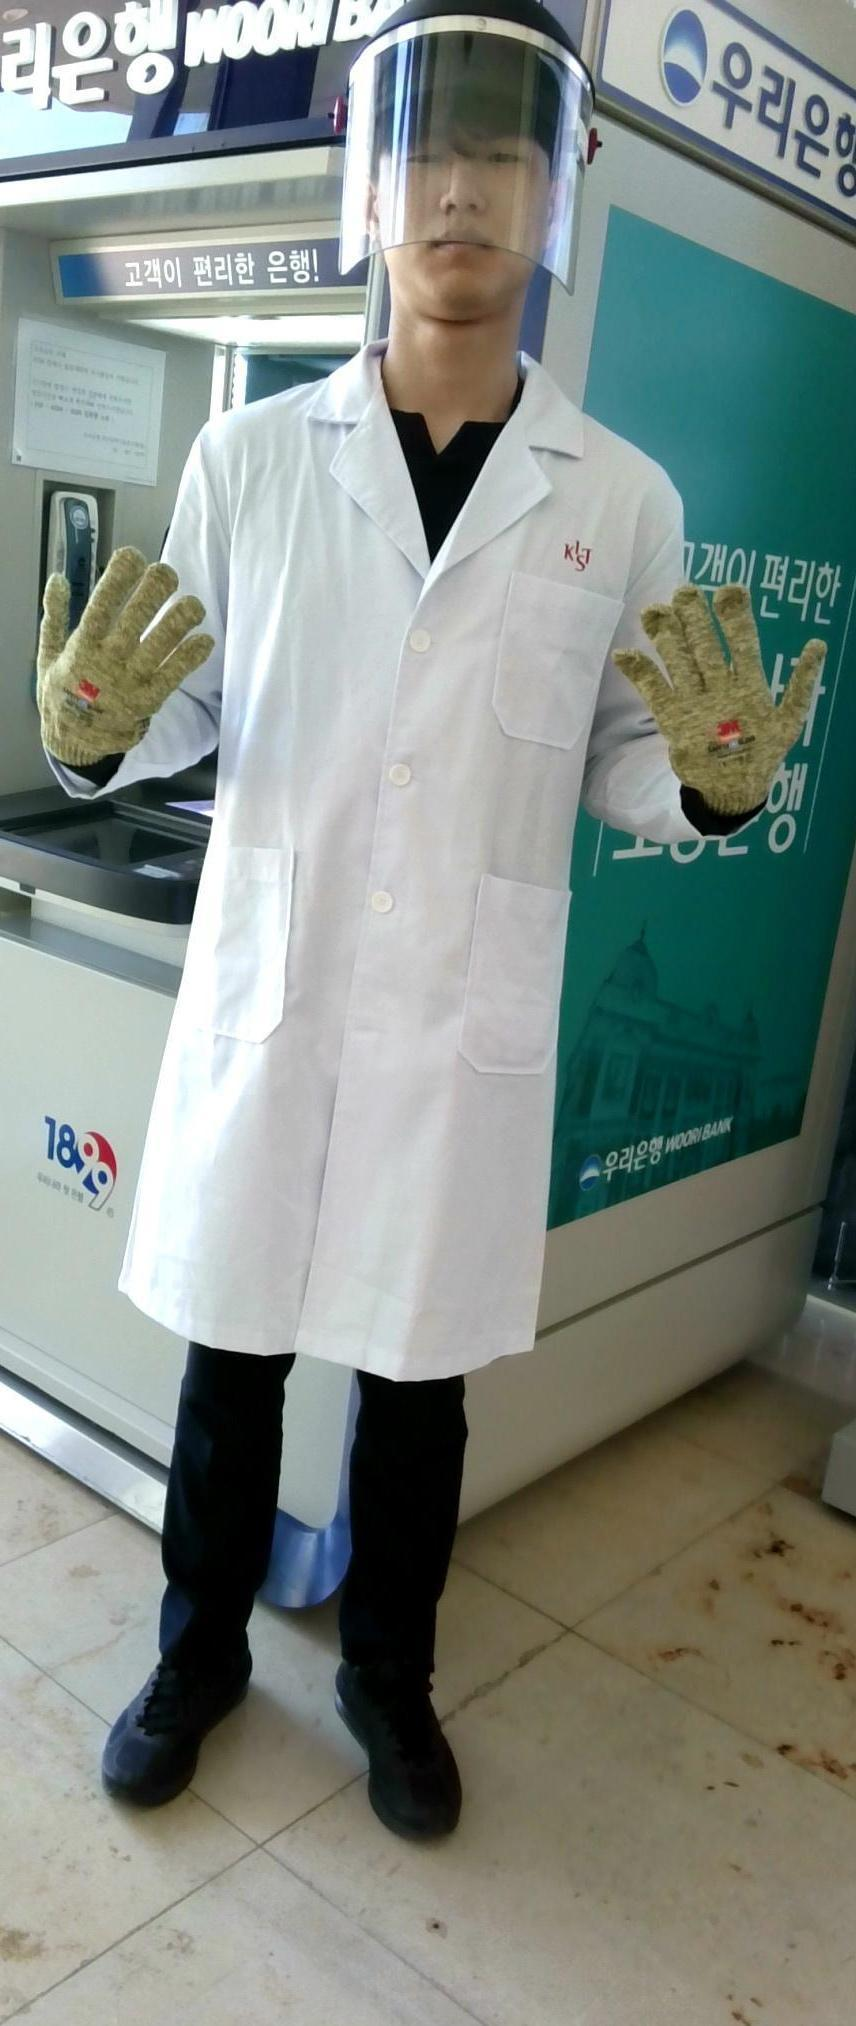lab_coat: (168, 426, 636, 1339)
